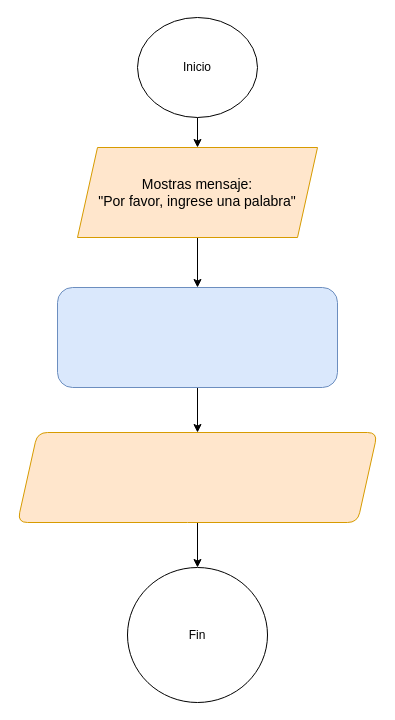
Image size: 395x720. Some labels were removed from this diagram. The shapes that lost their labels are listed below. From the top down, each one's box as (x1, y1, x2, y2) in pixels, then its label:
(56, 286, 338, 388): Definir la variable cantidad_letras y asignarle la longitud de palabra_ingresada
(16, 432, 378, 522): Mostrar mensaje: " La palabra ingresada tiene", cantidad_letras, "letras."
